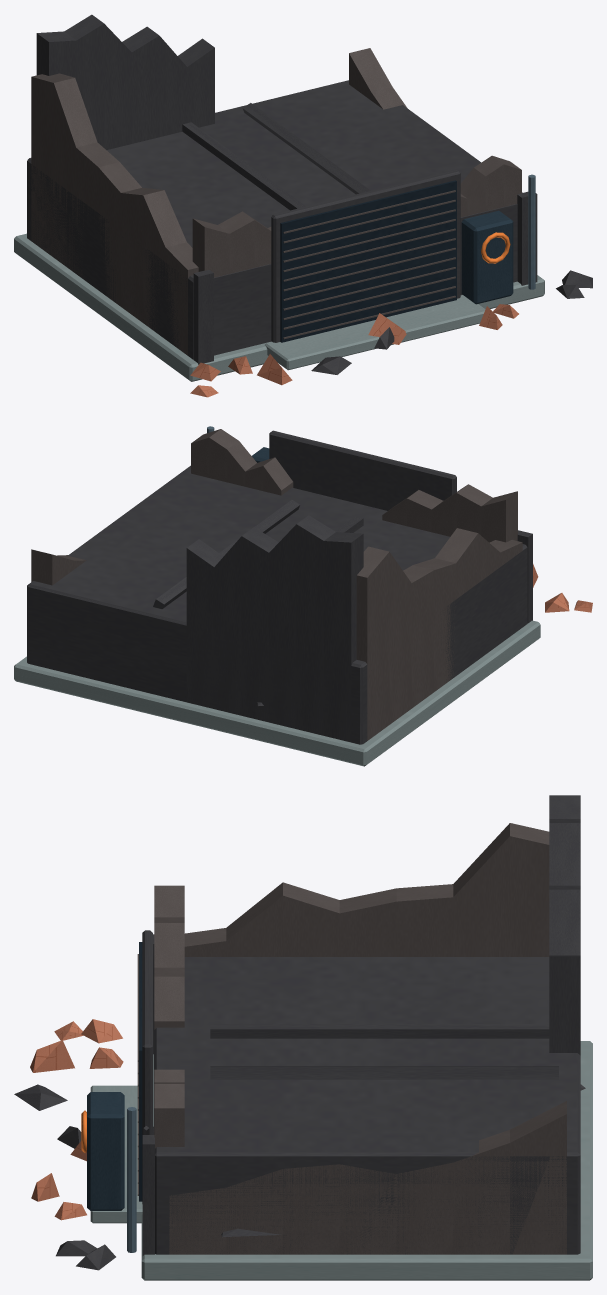
The model's file is workshop-ruined.glb.
3 renders of one model, top to bottom at view 1: azimuth 30°, elevation 25°; view 2: azimuth 150°, elevation 25°; view 3: azimuth 270°, elevation 25°, orthographic. The views are drawn at different scales.
Visible parts, largest first — view 1: workshop-ruined; view 2: workshop-ruined; view 3: workshop-ruined.
Part boxes in pixels (x1,y1,x2,y2): workshop-ruined: (14, 14, 592, 397); workshop-ruined: (14, 426, 592, 766); workshop-ruined: (14, 795, 592, 1280).
Bounding box in the file's own units: 6.91 × 3.6 × 6.64.
1 material, 1 textured.
